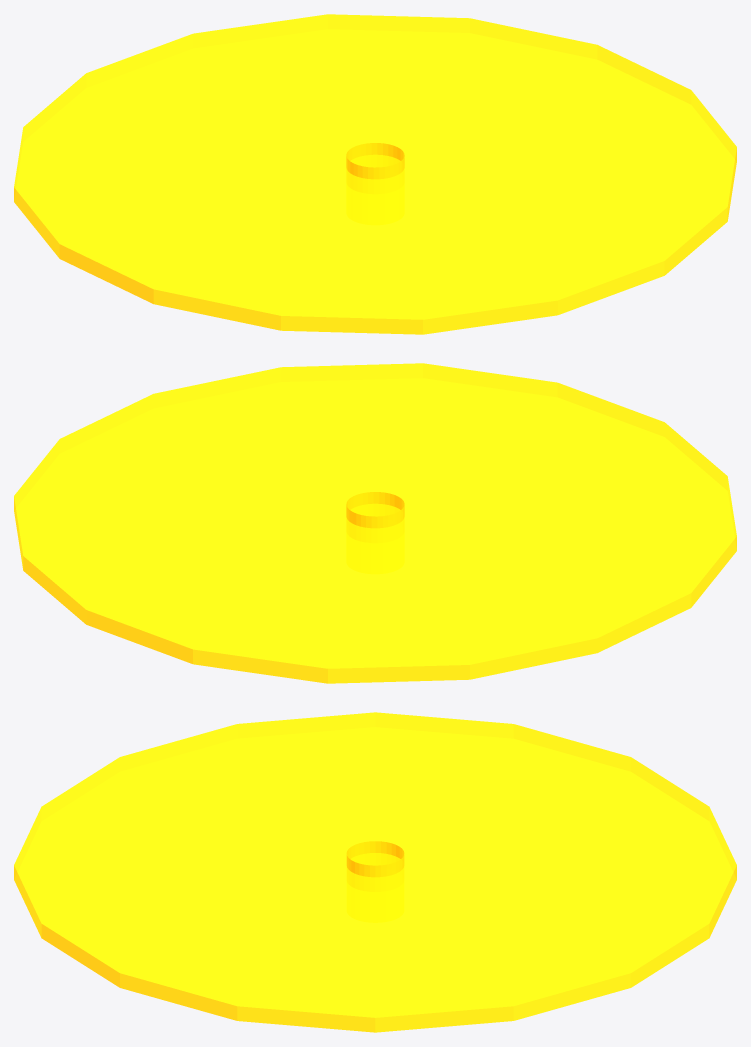
The model's file is ai-pulse-session55.glb.
3 views of the same model, one above another, from view 1: azimuth 30°, elevation 25°; view 2: azimuth 150°, elevation 25°; view 3: azimuth 270°, elevation 25° (orthographic).
Visible parts, largest first — view 1: ai_pulse_crown_intensifier, ai_pulse_expanding_ring; view 2: ai_pulse_crown_intensifier, ai_pulse_expanding_ring; view 3: ai_pulse_crown_intensifier, ai_pulse_expanding_ring.
Part boxes in pixels (bbox=[...]): ai_pulse_crown_intensifier: bbox=[14, 14, 736, 334]; ai_pulse_expanding_ring: bbox=[346, 143, 404, 193]; ai_pulse_crown_intensifier: bbox=[14, 363, 736, 683]; ai_pulse_expanding_ring: bbox=[346, 492, 404, 542]; ai_pulse_crown_intensifier: bbox=[14, 712, 736, 1032]; ai_pulse_expanding_ring: bbox=[346, 841, 404, 891].
Size of the model in its own units: 2 by 0.175 by 2.
